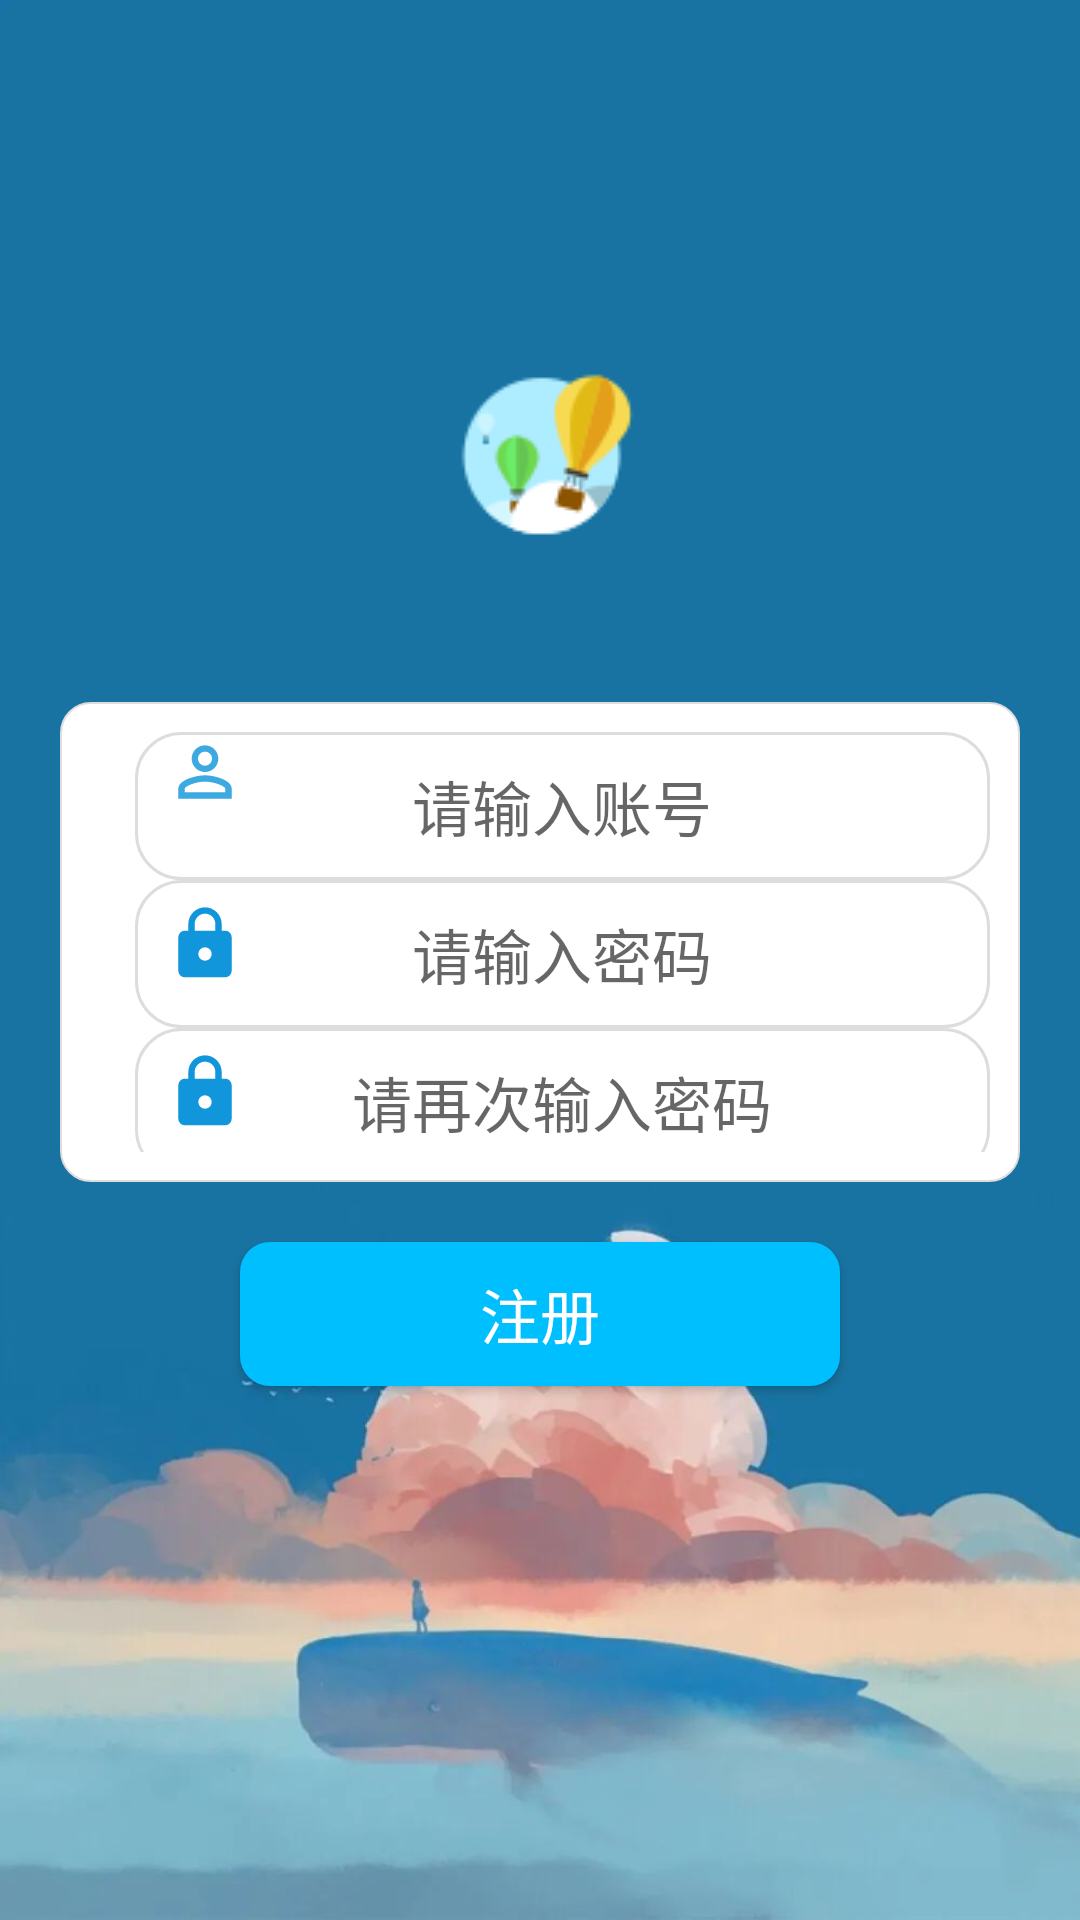

Screen size 1080w x 1920h. Icon name, then its center in pixels as (x=x, y=y):
login password: (x=205, y=942), (x=205, y=1090)
